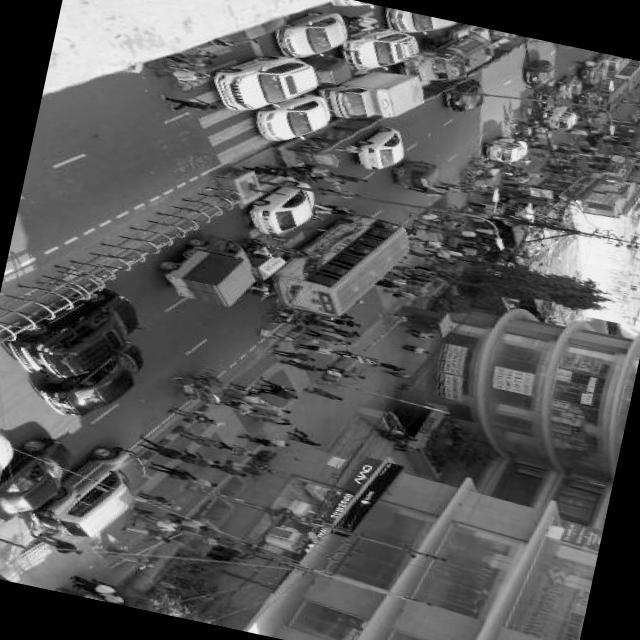bus: (263, 197, 422, 332)
car: (206, 43, 325, 129), (247, 82, 338, 156), (239, 172, 330, 246), (268, 0, 354, 70), (348, 121, 411, 178)
motorcycle: (167, 362, 240, 414), (391, 156, 444, 196), (240, 238, 274, 266)
truck: (151, 225, 265, 314)
